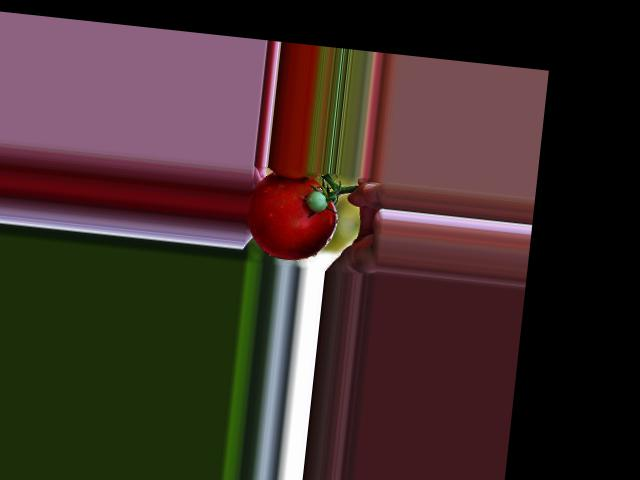tomato: (242, 170, 342, 264)
